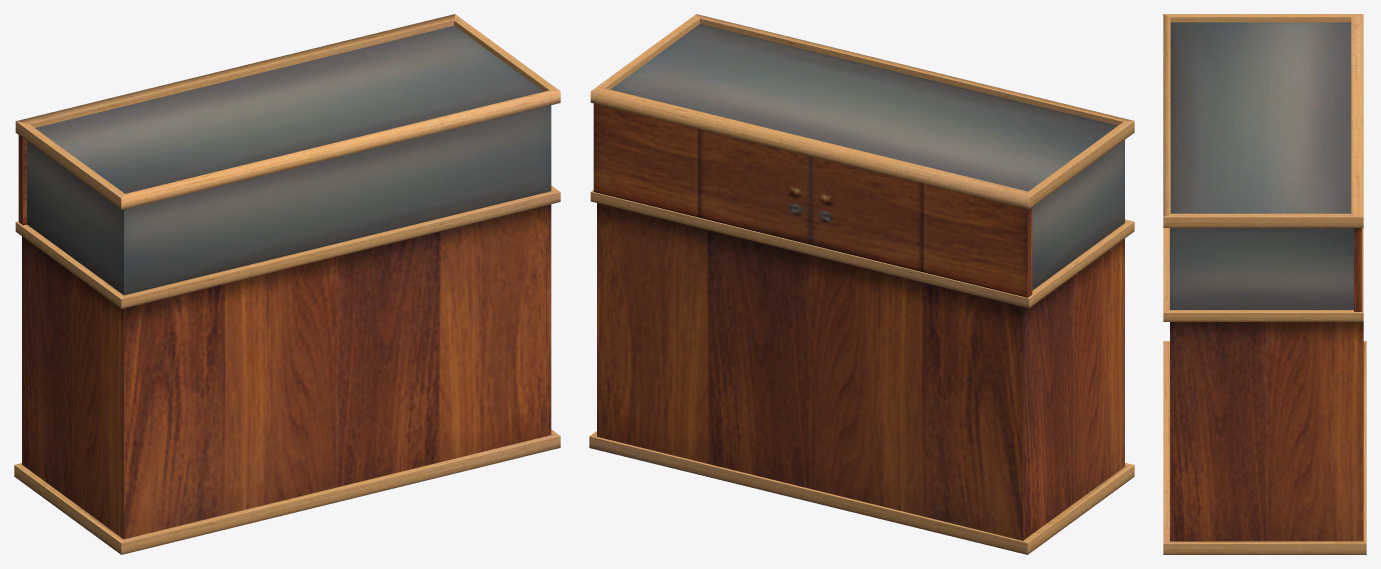
The model's file is jewelrycase.fbx.
The picture shows the model from 3 angles, left to right: view 1: azimuth 30°, elevation 25°; view 2: azimuth 150°, elevation 25°; view 3: azimuth 270°, elevation 25°; orthographic projection. The views are drawn at different scales.
Visible parts, largest first — view 1: mesh_0, mesh_4, mesh_3, mesh_2, mesh_1, mesh_5; view 2: mesh_0, mesh_4, mesh_5, mesh_3, mesh_2, mesh_1; view 3: mesh_4, mesh_0, mesh_3, mesh_2, mesh_1, mesh_5.
Part boxes in pixels (x1,y1,x2,y2): mesh_0: [22, 204, 551, 539]; mesh_4: [27, 26, 551, 295]; mesh_3: [15, 14, 560, 209]; mesh_2: [14, 429, 560, 554]; mesh_1: [15, 185, 560, 308]; mesh_5: [18, 135, 26, 225]; mesh_0: [597, 203, 1124, 540]; mesh_4: [610, 24, 1124, 290]; mesh_5: [593, 103, 1032, 297]; mesh_3: [590, 14, 1134, 209]; mesh_2: [589, 431, 1134, 554]; mesh_1: [590, 190, 1134, 308]; mesh_4: [1170, 22, 1353, 309]; mesh_0: [1170, 322, 1363, 541]; mesh_3: [1163, 14, 1363, 227]; mesh_2: [1163, 341, 1366, 554]; mesh_1: [1163, 228, 1363, 321]; mesh_5: [1354, 228, 1362, 311].
Size of the model in its own units: 144 by 112 by 60.89.
2 materials, 2 textured.
